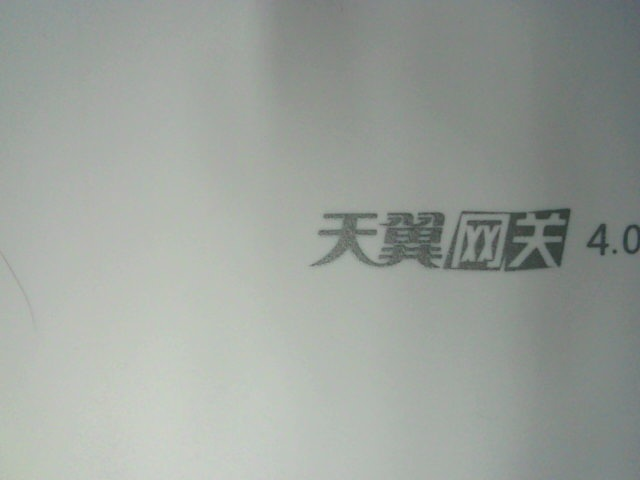BM_TianYiWangGuan: (310, 203, 639, 270)
